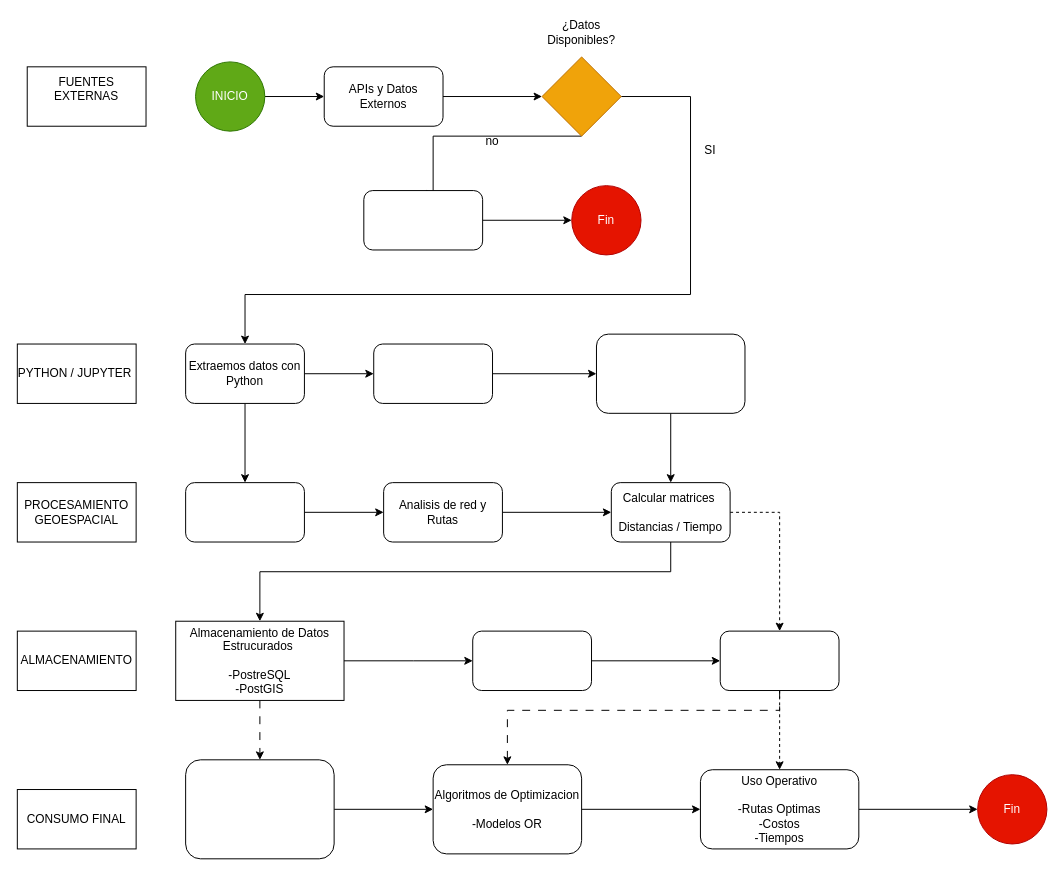
This 1064x876 diagram has some shape labels left out. The box of each missing label's shape, as (x1, y1, x2, y2) in pixels:
Caché de datos frecuentes: (472, 630, 592, 691)
Construir Red Vial: (185, 482, 304, 542)
Exportar Archivos: (719, 630, 839, 691)
Fallo en la conexion o no hay datos disponibles: (363, 190, 483, 250)
Limpiar y transformar datos -validacion -pandas: (595, 333, 745, 413)
Procesar Dataset Pandas / numpy: (373, 343, 493, 403)
Visualizacion y Monitoreo -Tableau -Power BI: (185, 759, 334, 859)
